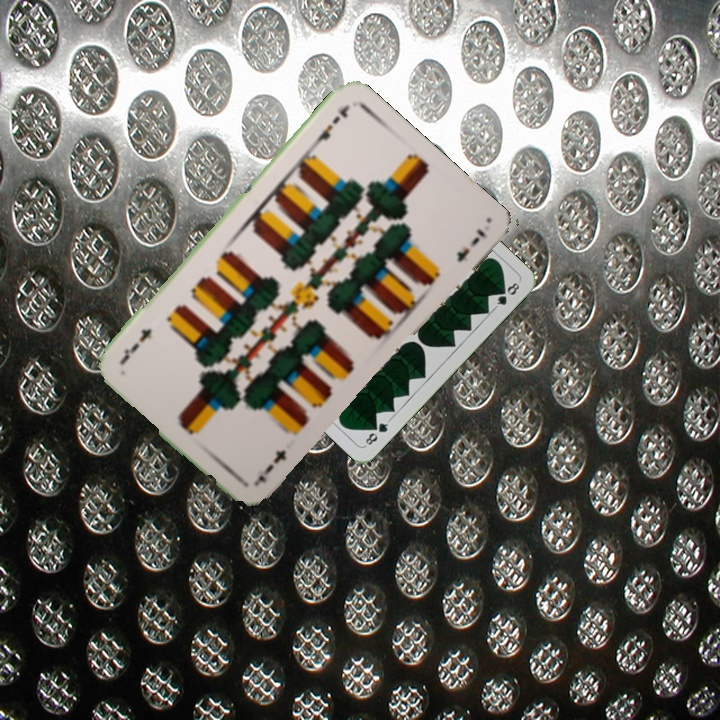E7: (307, 101, 353, 150), (250, 445, 290, 488)
G8: (361, 416, 392, 449)
